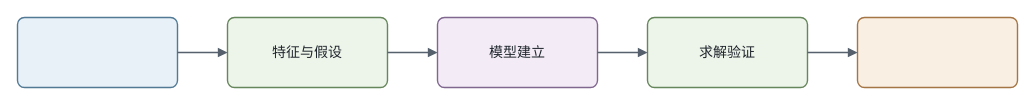
This 1036x106 diagram has some shape labels left out. Each missing label, with the centre of its shape:
"中文字体验证" belongs at point 97,52.
"结论回扣" belongs at point 937,52.
